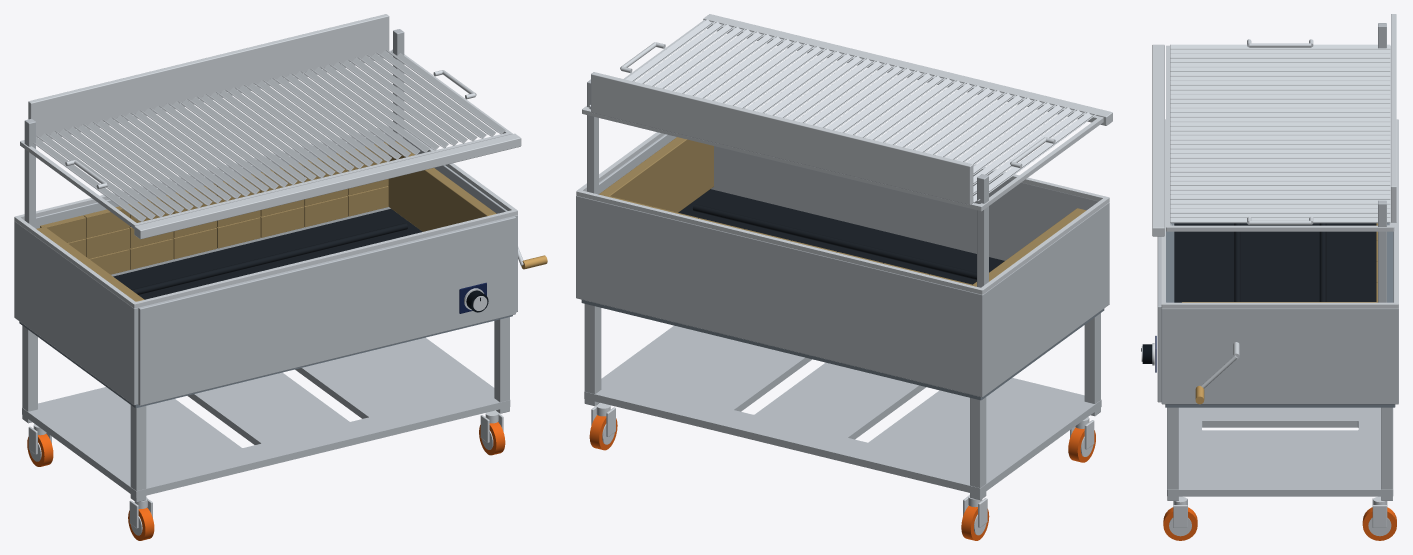
The model's file is parrilla-grande-v1.glb.
The picture shows the model from 3 angles, left to right: view 1: azimuth 30°, elevation 25°; view 2: azimuth 150°, elevation 25°; view 3: azimuth 270°, elevation 25°; orthographic projection. The views are drawn at different scales.
Visible parts, largest first — view 1: Acero_satinado, Acero_pulido, Refractario_referencial, Cavidades_y_fundicion, Ruedas_naranjas, Interior_acero; view 2: Acero_satinado, Acero_pulido, Cavidades_y_fundicion, Refractario_referencial, Interior_acero, Ruedas_naranjas; view 3: Acero_pulido, Acero_satinado, Cavidades_y_fundicion, Interior_acero, Ruedas_naranjas, Refractario_referencial.
Boxes of the visible parts, <box> form: Acero_satinado: <box>14,29,517,502</box>; Acero_pulido: <box>14,14,523,535</box>; Refractario_referencial: <box>36,141,496,301</box>; Cavidades_y_fundicion: <box>113,209,480,301</box>; Ruedas_naranjas: <box>27,422,505,540</box>; Interior_acero: <box>19,315,512,408</box>; Acero_satinado: <box>576,79,1109,500</box>; Acero_pulido: <box>576,14,1112,535</box>; Cavidades_y_fundicion: <box>678,189,1004,284</box>; Refractario_referencial: <box>599,137,1086,286</box>; Interior_acero: <box>581,300,1104,400</box>; Ruedas_naranjas: <box>589,415,1095,540</box>; Acero_pulido: <box>1141,14,1398,536</box>; Acero_satinado: <box>1157,23,1398,500</box>; Cavidades_y_fundicion: <box>1141,223,1376,351</box>; Interior_acero: <box>1165,223,1395,407</box>; Ruedas_naranjas: <box>1163,507,1396,540</box>; Refractario_referencial: <box>1182,223,1377,302</box>.
Size of the model in its own units: 1.35 by 1.07 by 0.706.
